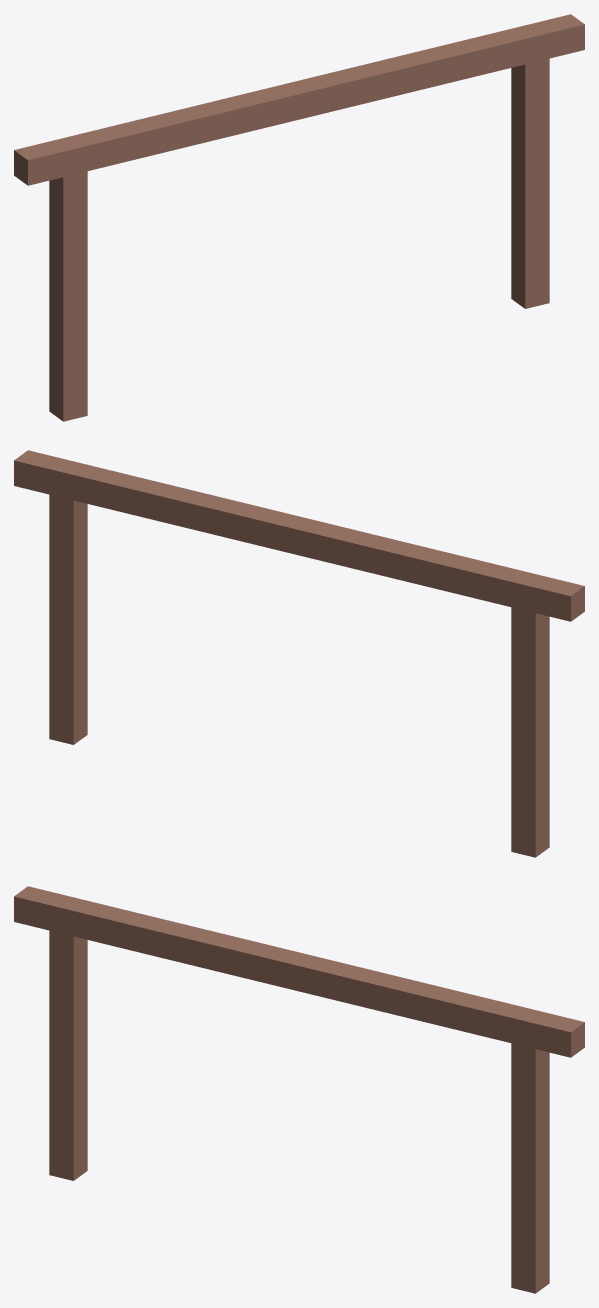
File: fence.glb
The picture shows the model from 3 angles, top to bottom: view 1: azimuth 30°, elevation 25°; view 2: azimuth 150°, elevation 25°; view 3: azimuth 330°, elevation 25°; orthographic projection.
Parts seen in each view (by area): view 1: Barrier; view 2: Barrier; view 3: Barrier.
Part boxes in pixels (x1,y1,x2,y2): Barrier: [14, 14, 584, 421]; Barrier: [14, 450, 584, 857]; Barrier: [14, 886, 584, 1293].
Size of the model in its own units: 1.15 by 0.5307 by 0.05.
1 material, 1 textured.
